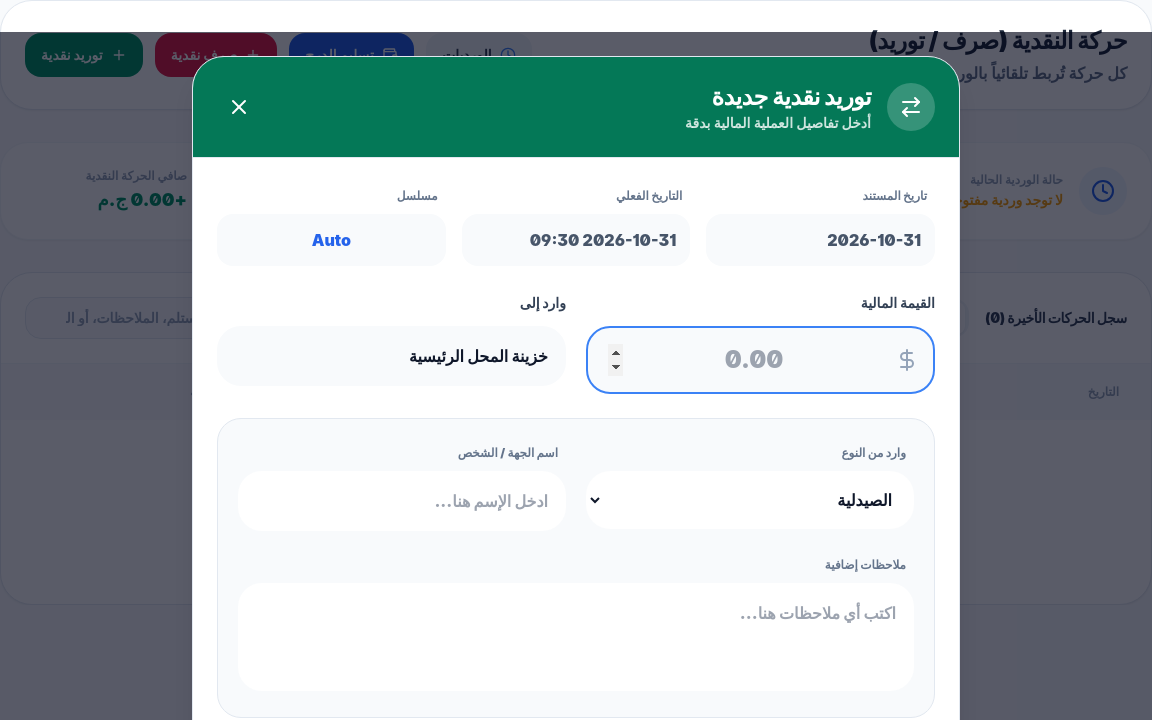
Test: cash-transaction error and keyboard behavior › does not allow Escape or cancel to hide a form while its financial write is pending
This screenshot has width=1152, height=720.
Expected: the heading "توريد نقدية جديدة" is shown, [685,81,871,113]
Type "65" into the number field with placeholder "0.00". click: (760, 360)
box: [586,326,935,394]
(page scrolled)
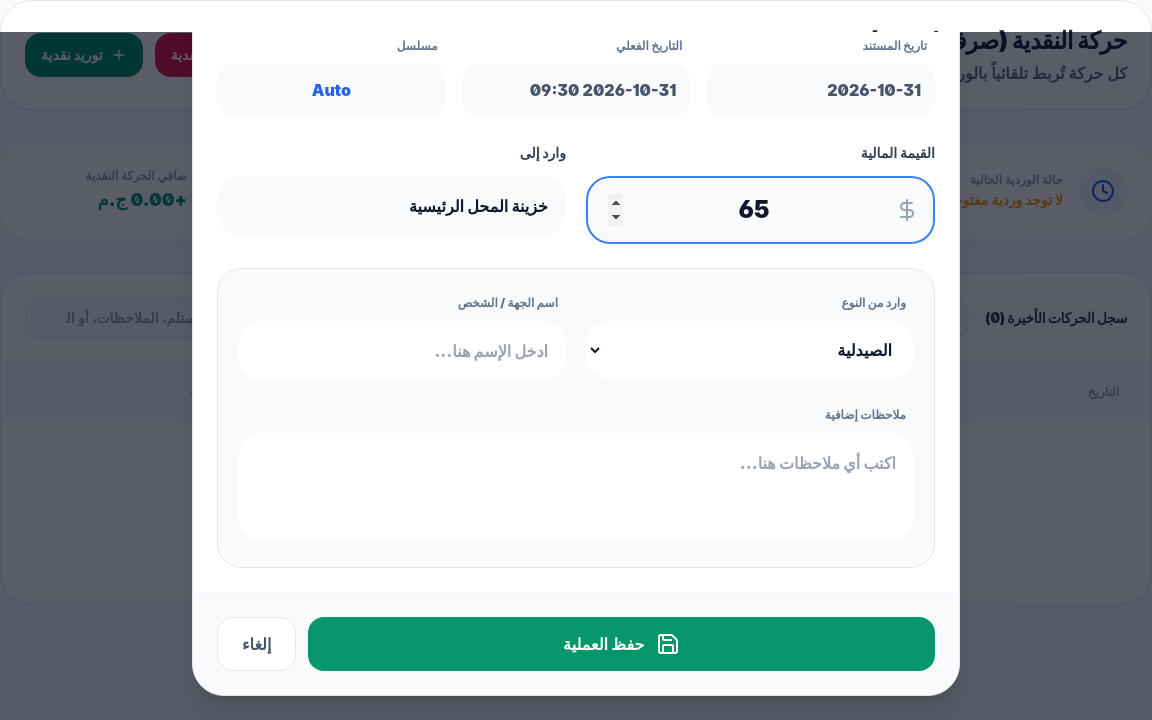
Click the button "حفظ العملية". click: (622, 644)
box: [308,617,935,671]
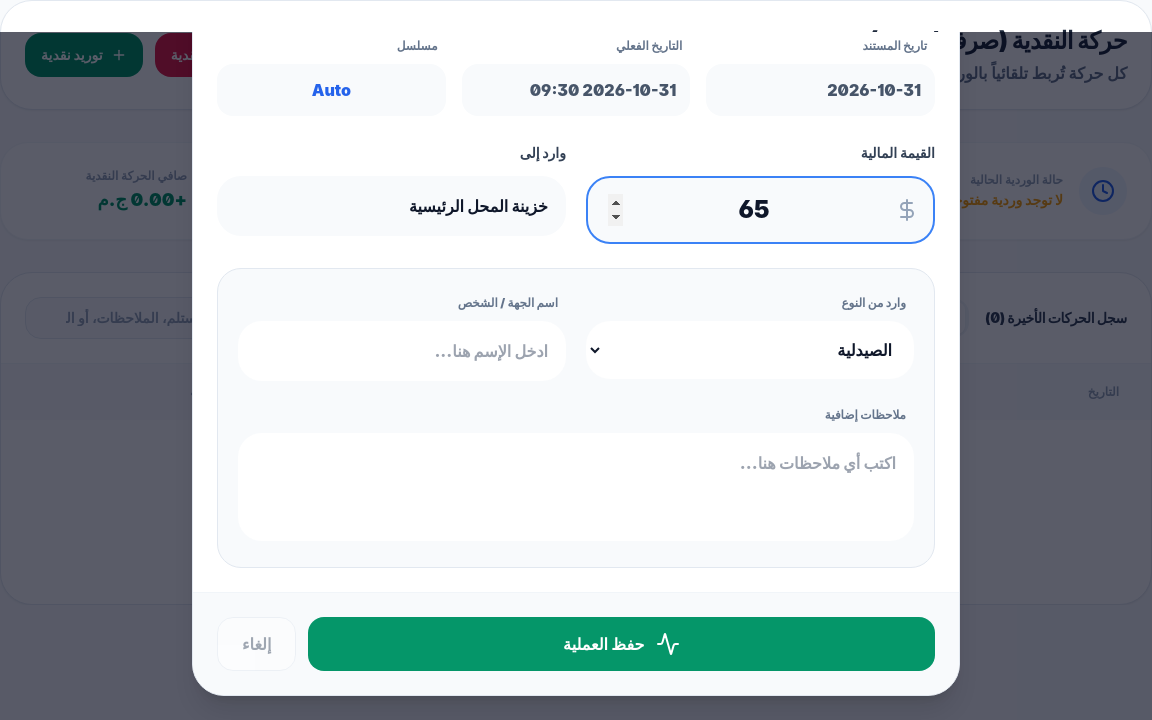
Click the button "إلغاء". click: (257, 644)
box: [217,617,296,671]
(page scrolled)
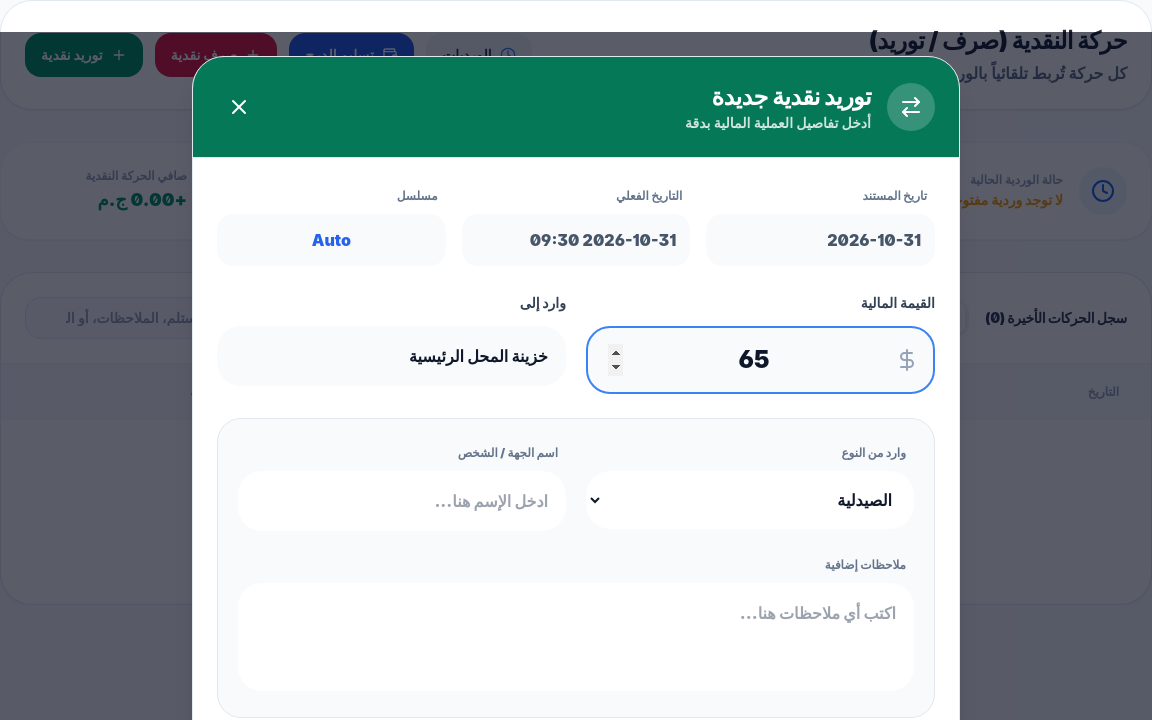
Expected: the heading "توريد نقدية جديدة" is shown, [685,81,871,113]
